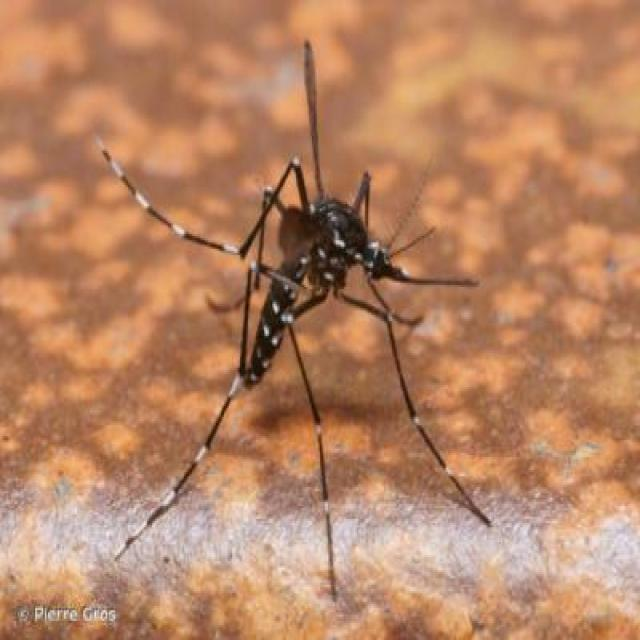antennae: (383, 144, 440, 263)
body: (248, 197, 384, 391)
insect: (93, 37, 493, 602)
legs: (102, 151, 284, 565), (292, 273, 481, 581)
mouthpart: (376, 250, 484, 296)
wings: (289, 42, 342, 202)
